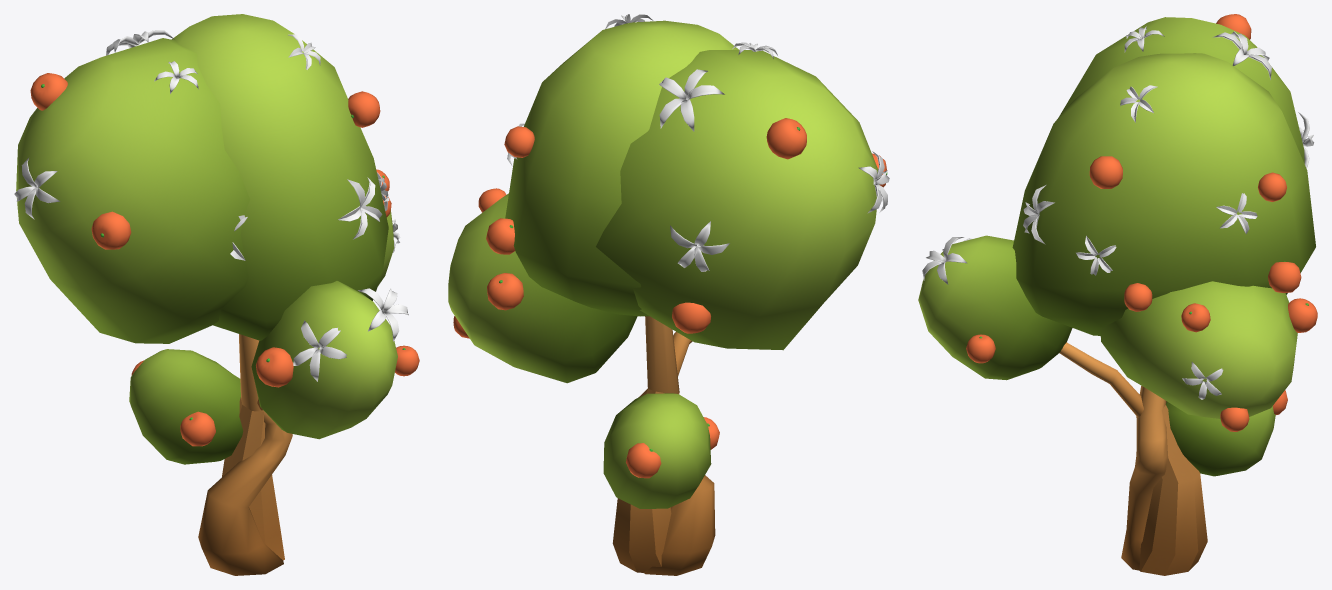
File: ORANGE TREES.fbx
3 views of the same model, side by side, from view 1: azimuth 30°, elevation 25°; view 2: azimuth 150°, elevation 25°; view 3: azimuth 270°, elevation 25° (orthographic). The views are drawn at different scales.
Parts seen in each view (by area): view 1: ORANGETREE1, ORANGETREE2; view 2: ORANGETREE1, ORANGETREE2; view 3: ORANGETREE2, ORANGETREE1.
Boxes of the visible parts, left/top/right/bottom form: ORANGETREE1: left=14, top=30, right=419, bottom=575; ORANGETREE2: left=129, top=14, right=391, bottom=560; ORANGETREE1: left=448, top=42, right=889, bottom=575; ORANGETREE2: left=486, top=14, right=738, bottom=572; ORANGETREE2: left=1012, top=53, right=1315, bottom=575; ORANGETREE1: left=918, top=14, right=1317, bottom=570.
Size of the model in its own units: 287 by 367 by 267.
